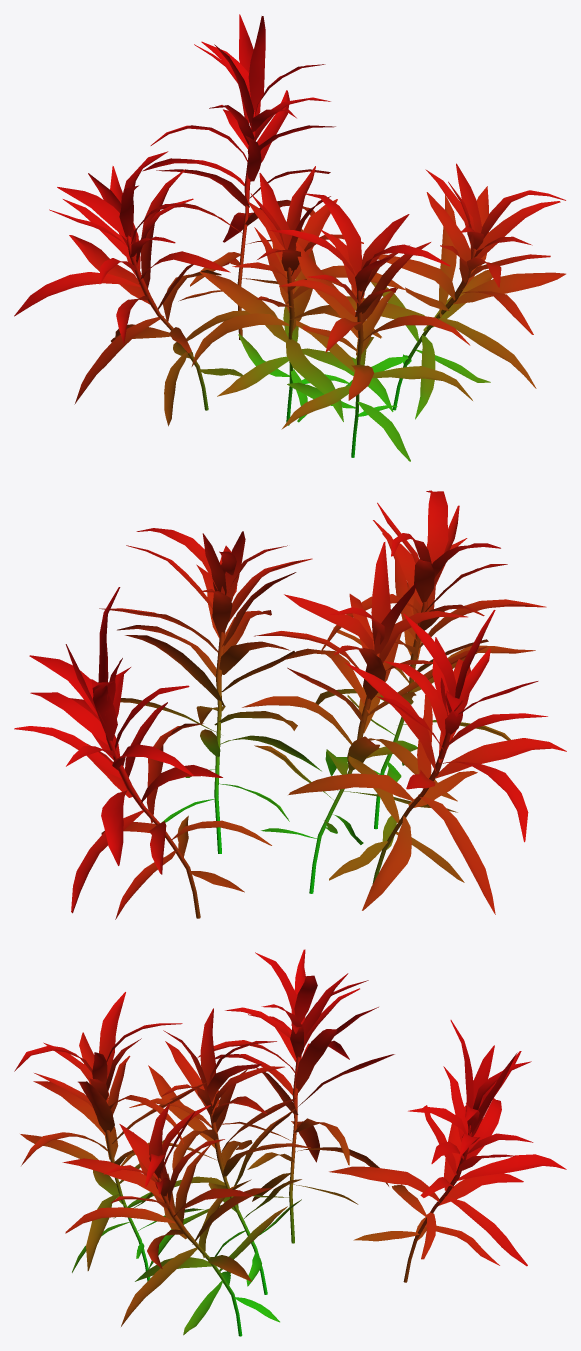
The model's file is Butterfly Weed_LOD1_Var6.fbx.
3 views of the same model, one above another, from view 1: azimuth 30°, elevation 25°; view 2: azimuth 150°, elevation 25°; view 3: azimuth 270°, elevation 25° (orthographic). The views are drawn at different scales.
Visible parts, largest first — view 1: _svnm_Var6_LOD1; view 2: _svnm_Var6_LOD1; view 3: _svnm_Var6_LOD1.
Boxes of the visible parts, x1,y1,x2,y2 form: _svnm_Var6_LOD1: (14, 14, 565, 461); _svnm_Var6_LOD1: (14, 490, 566, 919); _svnm_Var6_LOD1: (14, 949, 566, 1336).
Bounding box in the file's own units: 69.04 × 46.64 × 75.95.
